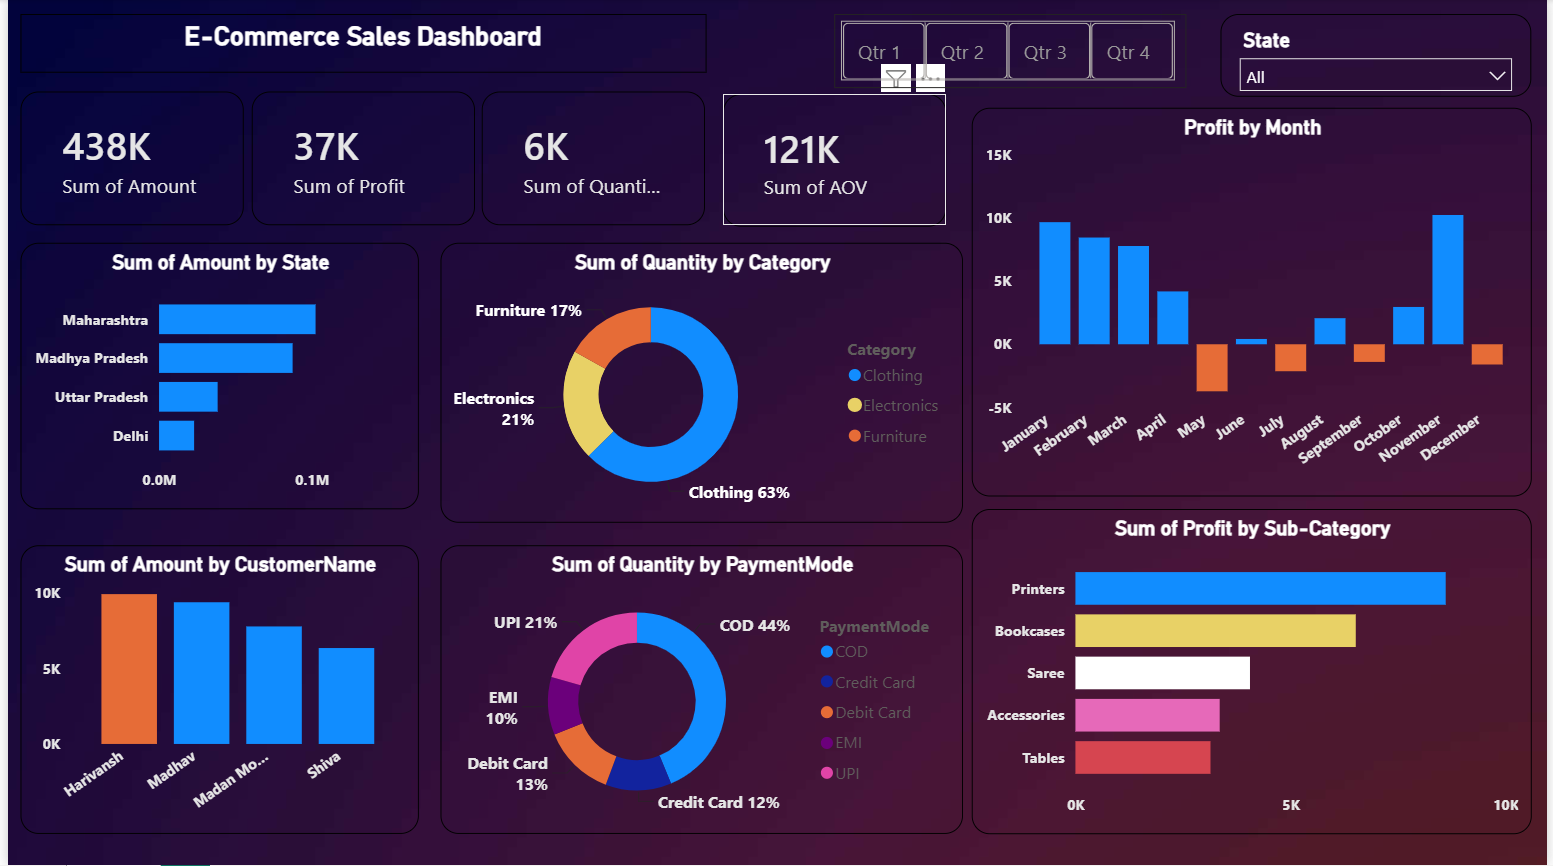

The page's visual inventory and layout, read from the dashboard file:
{"tool":"powerbi","page":{"name":"Page 1","canvas":[1280,720],"ordinal":0},"visuals":[{"type":"columnChart","title":"Profit by Month","fields":{"Y":["Sum(Details.Profit)"],"Category":["Orders.Order Date.Variation.Date Hierarchy.Month"]},"box":[801.4,90,465.7,322.9],"z":0},{"type":"barChart","fields":{"Category":["Details.Sub-Category"],"Y":["Sum(Details.Profit)"]},"box":[801.4,424.3,465.7,270],"z":1000},{"type":"donutChart","fields":{"Category":["Details.Category"],"Y":["Sum(Details.Quantity)"]},"box":[360,202.9,434.3,232.9],"z":2000},{"type":"donutChart","fields":{"Series":["Details.PaymentMode"],"Y":["Sum(Details.Quantity)"]},"box":[360,454.3,434.3,240],"z":3000},{"type":"cardVisual","fields":{"Data":["Sum(Details.Amount)"]},"box":[10,77.1,185.7,111.4],"z":4000},{"type":"cardVisual","fields":{"Data":["Sum(Details.Quantity)"]},"box":[394.3,77.1,185.7,111.4],"z":5000},{"type":"cardVisual","fields":{"Data":["Sum(Details.Profit)"]},"box":[202.9,77.1,185.7,111.4],"z":6000},{"type":"cardVisual","fields":{"Data":["Sum(Details.AOV)"]},"box":[594.3,78.6,185.7,110],"z":7000},{"type":"barChart","fields":{"Category":["Orders.State"],"Y":["Sum(Details.Amount)"]},"box":[10,202.9,331.4,221.4],"z":8000},{"type":"columnChart","fields":{"Category":["Orders.CustomerName"],"Y":["Sum(Details.Amount)"]},"box":[10,454,331,240],"z":9000},{"type":"textbox","box":[10,12.9,570,48.6],"z":10000},{"type":"advancedSlicerVisual","fields":{"Values":["Orders.Order Date.Variation.Date Hierarchy.Quarter"]},"box":[687.1,12.9,292.9,61.4],"z":11000},{"type":"slicer","fields":{"Values":["Orders.State"]},"box":[1008.6,12.9,258.6,68.6],"z":11001}]}

Visuals, with their boxes in screenshot pixels (x1, y1, x2, y2), scaled from the page's 1280x720 canvas onto the 1553x866 screenshot:
"Profit by Month" columnChart: BBox(972, 108, 1537, 497)
barChart - Details.Sub-Category x Sum(Details.Profit): BBox(972, 510, 1537, 835)
donutChart - Details.Category x Sum(Details.Quantity): BBox(437, 244, 964, 524)
donutChart - Details.PaymentMode x Sum(Details.Quantity): BBox(437, 546, 964, 835)
cardVisual - Sum(Details.Amount): BBox(12, 93, 237, 227)
cardVisual - Sum(Details.Quantity): BBox(478, 93, 704, 227)
cardVisual - Sum(Details.Profit): BBox(246, 93, 471, 227)
cardVisual - Sum(Details.AOV): BBox(721, 95, 946, 227)
barChart - Orders.State x Sum(Details.Amount): BBox(12, 244, 414, 510)
columnChart - Orders.CustomerName x Sum(Details.Amount): BBox(12, 546, 414, 835)
textbox: BBox(12, 16, 704, 74)
advancedSlicerVisual - Orders.Order Date.Variation.Date Hierarchy.Quarter: BBox(834, 16, 1189, 89)
slicer - Orders.State: BBox(1224, 16, 1537, 98)
